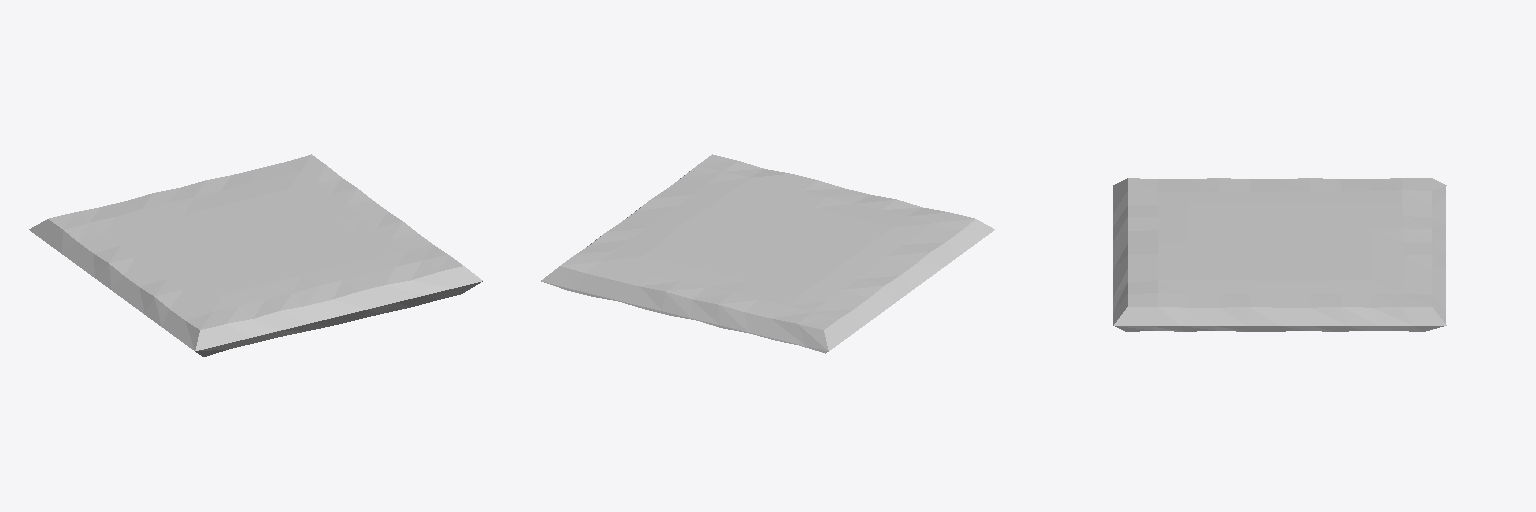
3 renders of one model, left to right at view 1: azimuth 30°, elevation 25°; view 2: azimuth 150°, elevation 25°; view 3: azimuth 270°, elevation 25°, orthographic.
Parts seen in each view (by area): view 1: Terrain_01_Grassland_0.001_Terrain_01_Grassland_0.002; view 2: Terrain_01_Grassland_0.001_Terrain_01_Grassland_0.002; view 3: Terrain_01_Grassland_0.001_Terrain_01_Grassland_0.002.
Boxes of the visible parts, x1,y1,x2,y2 form: Terrain_01_Grassland_0.001_Terrain_01_Grassland_0.002: [29, 154, 482, 356]; Terrain_01_Grassland_0.001_Terrain_01_Grassland_0.002: [541, 154, 994, 353]; Terrain_01_Grassland_0.001_Terrain_01_Grassland_0.002: [1113, 178, 1446, 331].
Bounding box in the file's own units: 200 × 19.03 × 200.